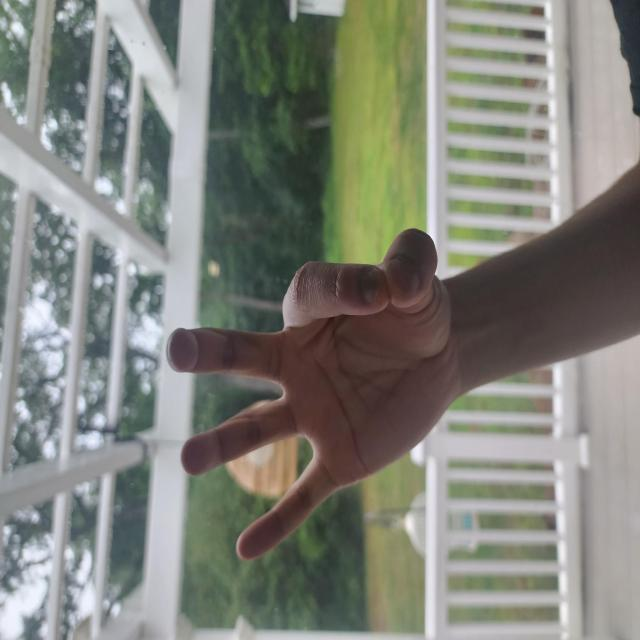F: (55, 218, 313, 628)
